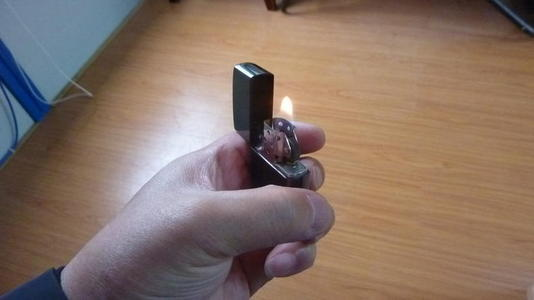fire: (274, 93, 303, 142)
